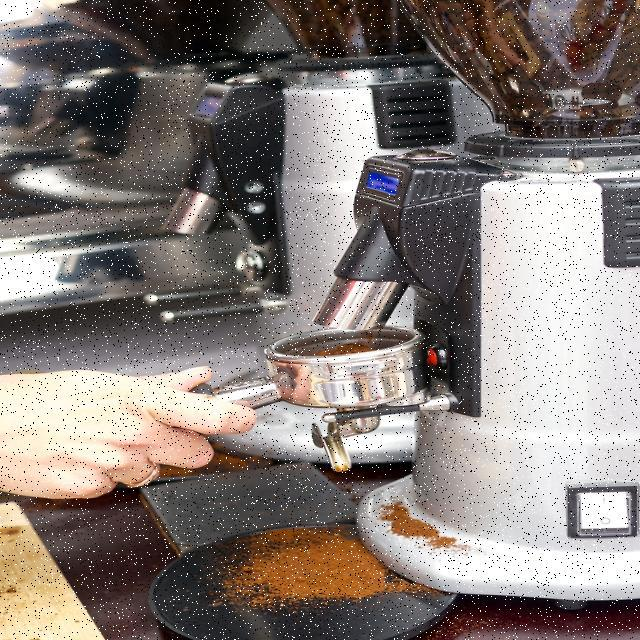Coffee-Machine: (266, 87, 640, 583)
